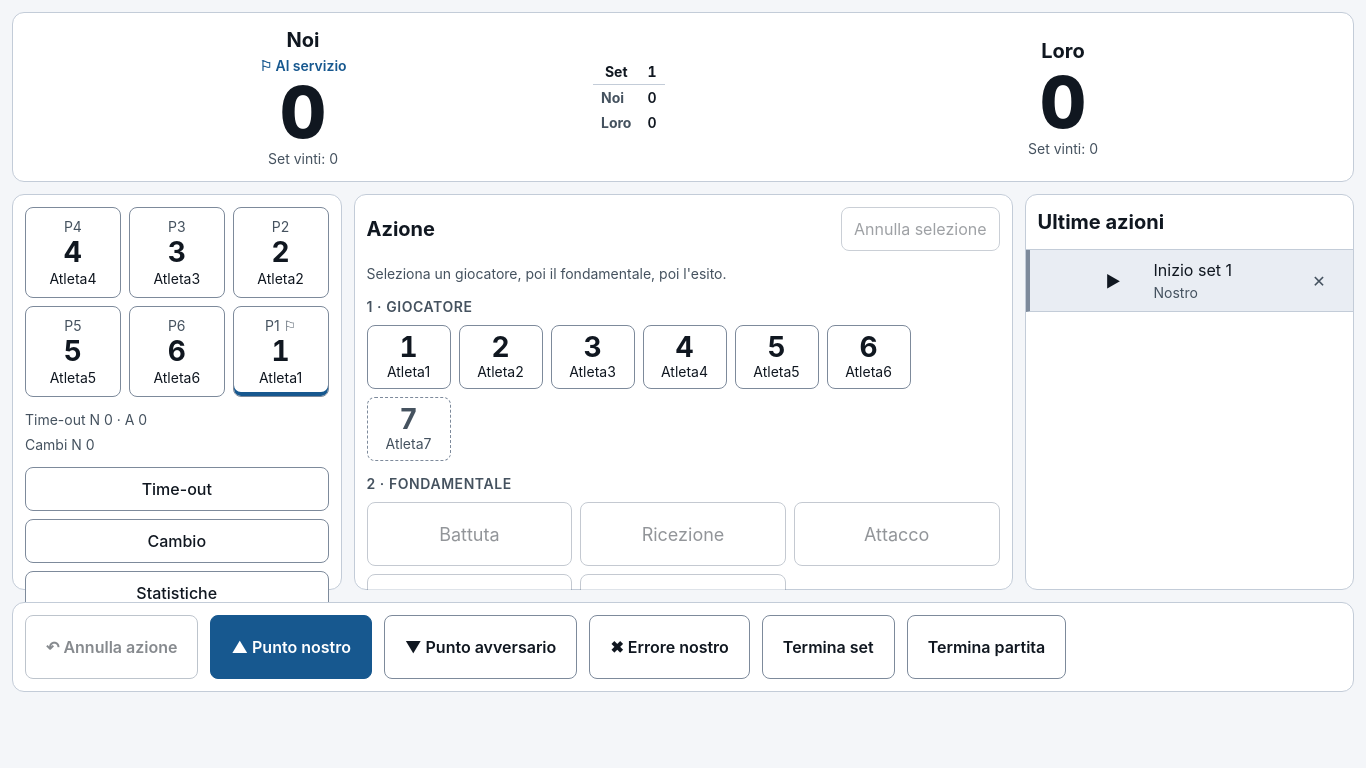
Test case: LiveScoutPage › gives the opponent a point with the express button and enables undo
The image size is (1366, 768).
Click the button "▼ Punto avversario" at point(481, 647), box [384,615,577,679]
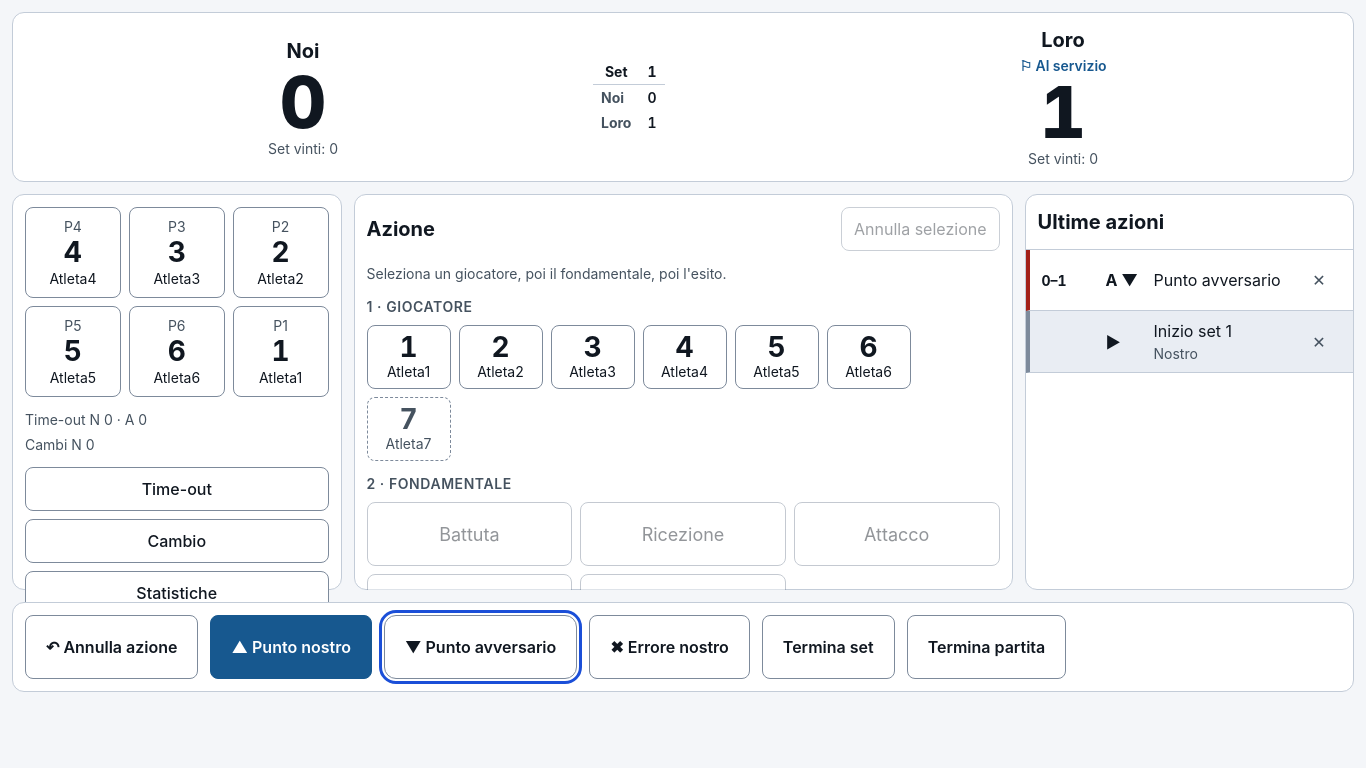
Check: the text named "Loro: 1" is shown, box [1040,76,1086,148]
Click the button "↶ Annulla azione" at point(112, 647), box [25,615,198,679]
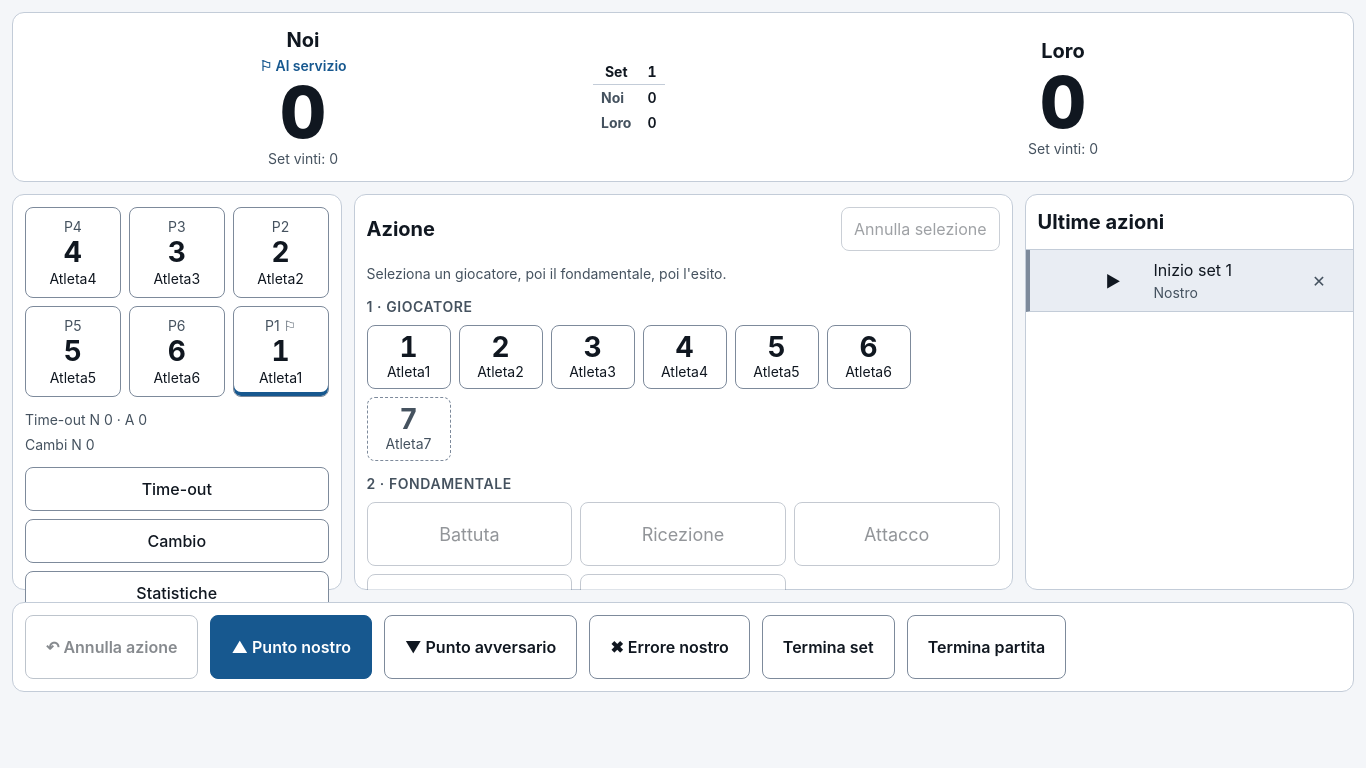
Check: the text named "Loro: 0" is shown, box [1040,66,1086,138]
